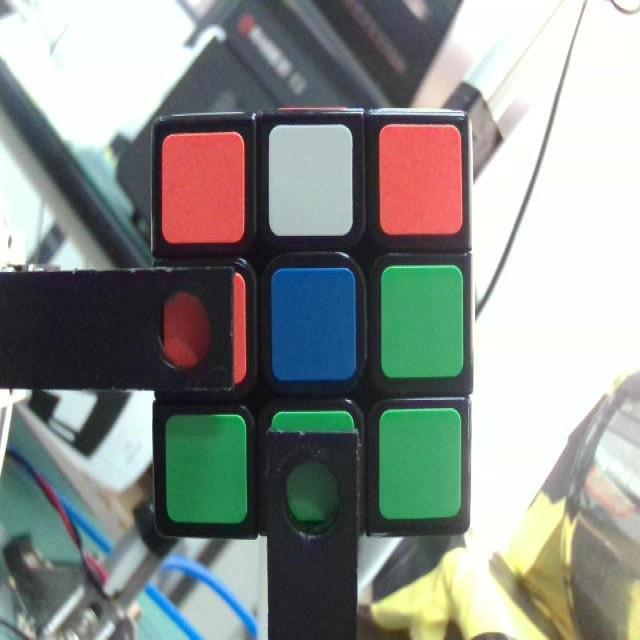b: (274, 275, 354, 379)
g: (274, 412, 354, 522), (384, 269, 460, 376), (166, 416, 244, 520), (384, 417, 458, 517)
o: (382, 126, 464, 233), (163, 275, 244, 380), (162, 135, 243, 239)
w: (270, 128, 352, 233)
